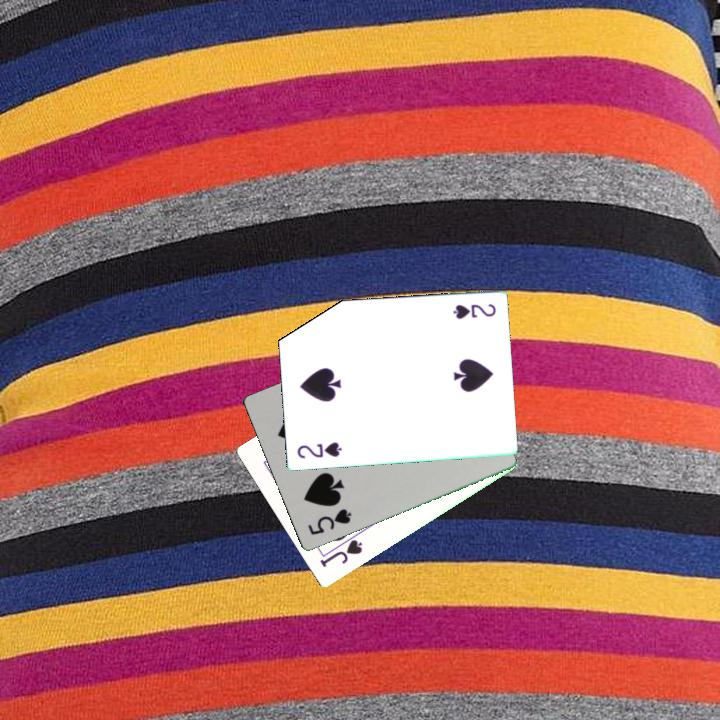2s: (293, 439, 345, 462), (449, 301, 498, 322)
5s: (304, 505, 354, 538)
Js: (316, 536, 365, 571)
